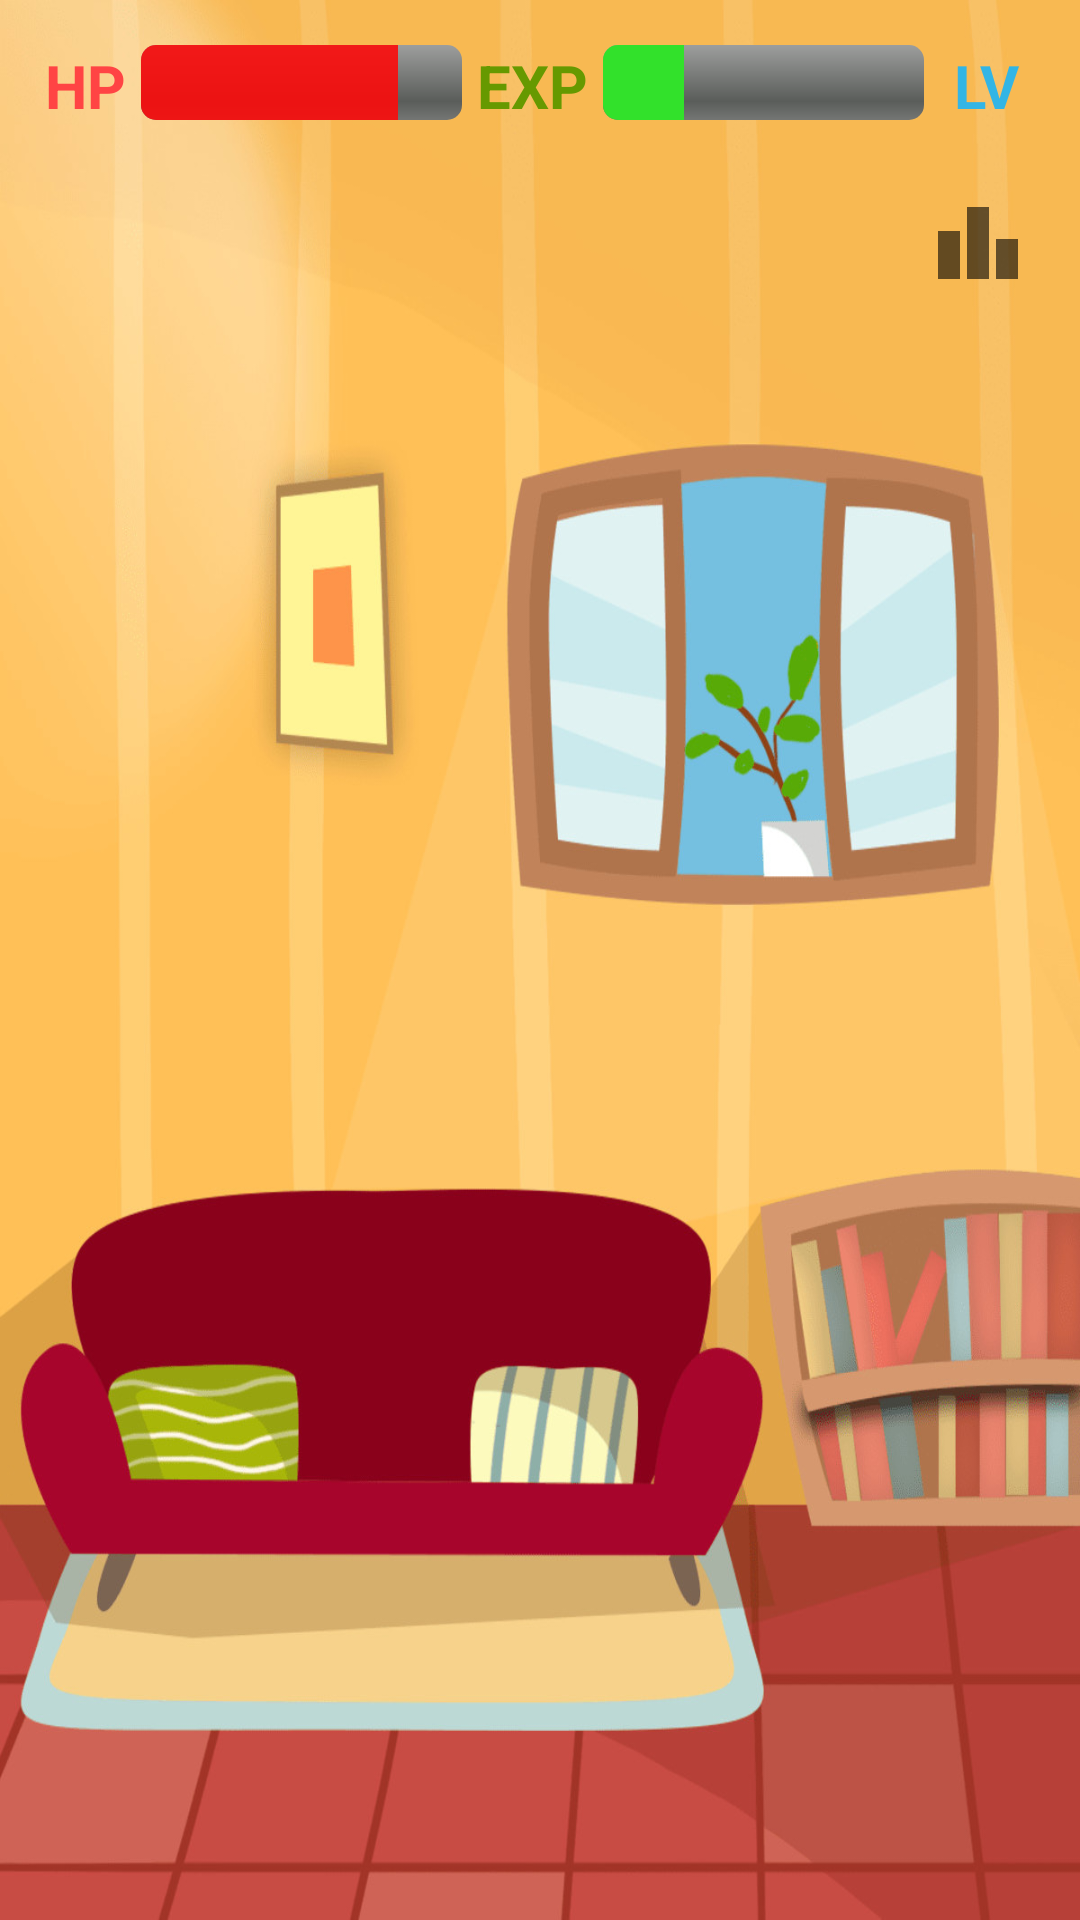

Where to tap for icons on this 1080x1920 app screen, as (x,y):
View leaderboard: (978,243)
